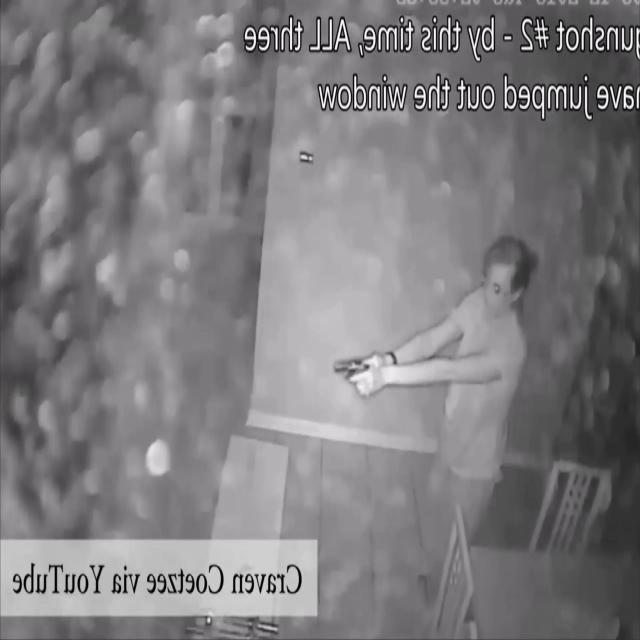weapon: (331, 356, 373, 389)
